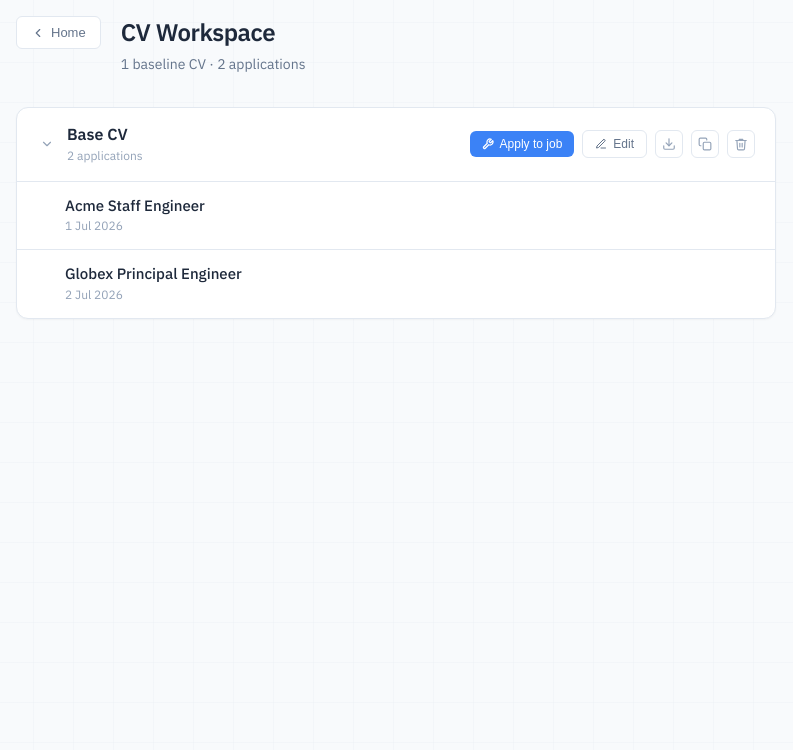
Dashboard delete confirmation and load failure feedback › (e) failed duplicate shows a load-failure toast
The width and height of the screenshot is (793, 750).
expect the text "Base CV" is shown: met, box [67,124,128,144]
Click the button titled "Duplicate baseline CV" at (705, 144), box [691,130,719,158]
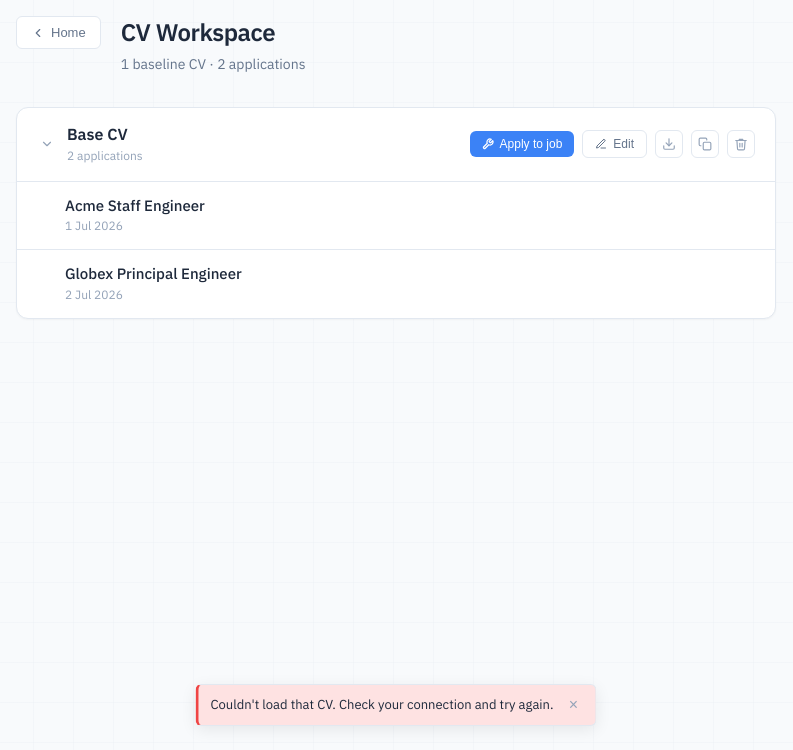
expect the text "Couldn't load that CV. Check your connection and try again." is shown: met, box [210,695,554,715]
